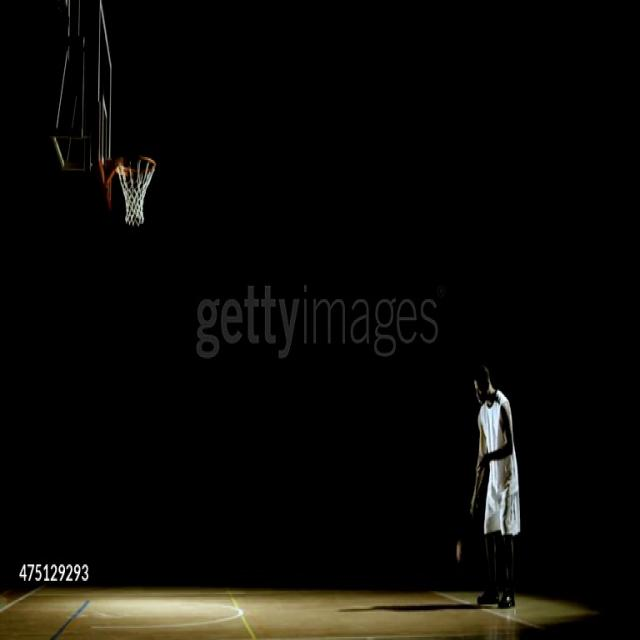ball: (447, 533, 466, 569)
